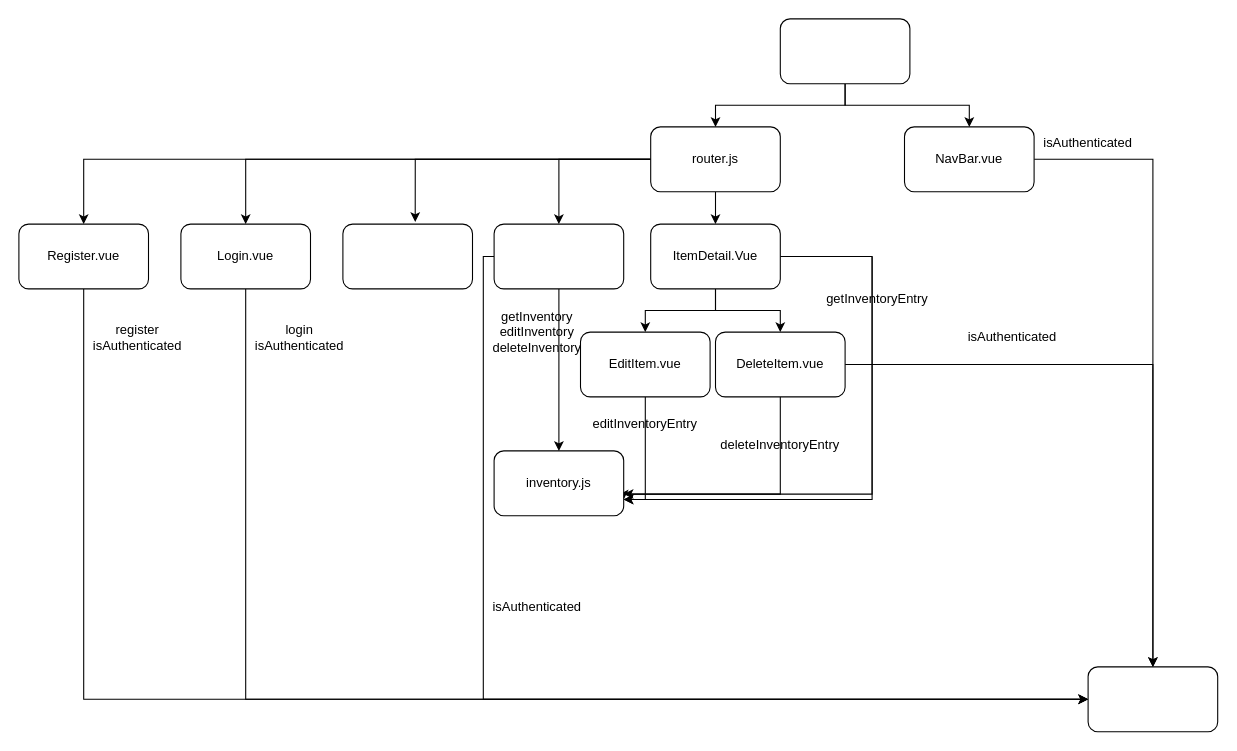
This 1237x751 diagram has some shape labels left out. The centre of each missing label's shape, as x and y in pixels:
App.vue: the point at 844,51
Home.vue: the point at 407,256
Inventory.vue: the point at 558,256
login.js: the point at 1152,699
